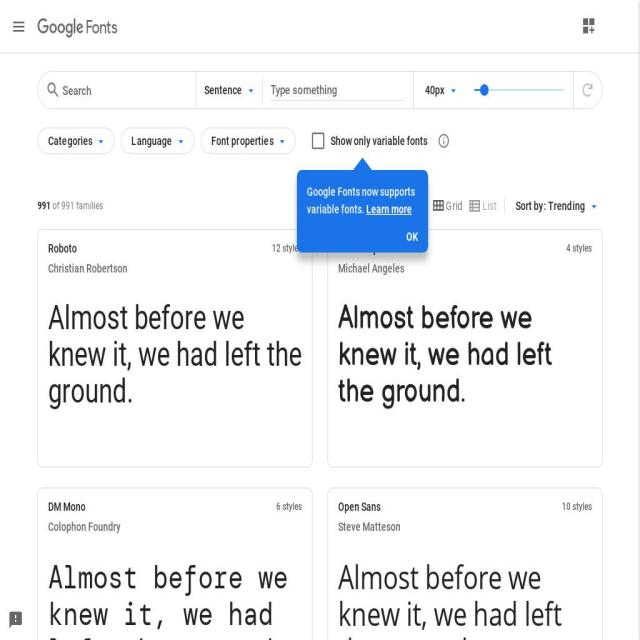button: (38, 230, 312, 467), (328, 230, 602, 467), (38, 488, 312, 640), (328, 488, 602, 640), (510, 191, 602, 221), (200, 128, 296, 154), (37, 128, 115, 154), (120, 128, 194, 154), (199, 75, 259, 105), (1, 601, 29, 640), (575, 7, 603, 44), (573, 72, 601, 108), (6, 9, 32, 43)
field: (270, 82, 404, 96), (63, 84, 175, 98)
heading: (48, 260, 302, 297), (338, 260, 592, 297), (48, 518, 302, 555), (338, 518, 592, 555), (48, 240, 302, 257), (338, 240, 592, 257), (48, 498, 302, 515), (338, 498, 592, 515)
image: (38, 18, 84, 38), (579, 80, 595, 100), (12, 16, 26, 38), (609, 79, 624, 99), (431, 196, 446, 216), (468, 196, 483, 216), (8, 610, 23, 630), (582, 15, 596, 36), (46, 80, 60, 100), (437, 133, 450, 149)
link: (38, 300, 312, 410), (328, 300, 602, 410), (38, 558, 312, 640), (328, 558, 602, 640), (366, 202, 412, 216), (406, 230, 418, 243)
text: (307, 185, 415, 216), (210, 128, 274, 154), (330, 135, 428, 147), (48, 128, 93, 154), (270, 81, 338, 98), (132, 128, 172, 154), (80, 16, 118, 38), (404, 191, 426, 221), (53, 200, 103, 212), (543, 199, 585, 213), (204, 83, 242, 97), (62, 82, 92, 99), (515, 199, 544, 213), (424, 83, 444, 97), (446, 199, 463, 213), (282, 243, 302, 254), (572, 243, 592, 254), (282, 501, 302, 512), (572, 501, 592, 512), (483, 199, 498, 213), (38, 200, 52, 212), (272, 243, 282, 254), (562, 501, 572, 512), (566, 243, 572, 254), (276, 501, 282, 512)
